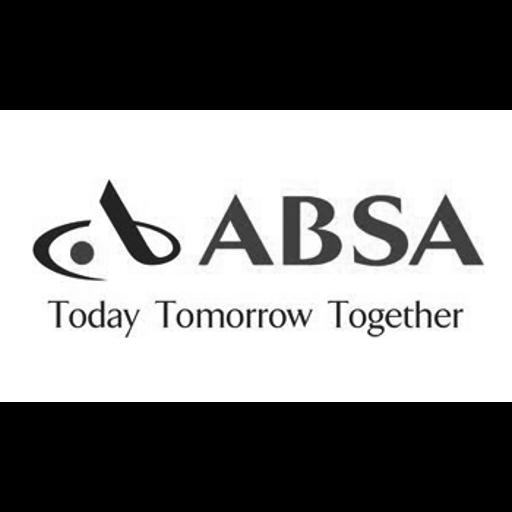Absa Group: (0, 110, 512, 402)
